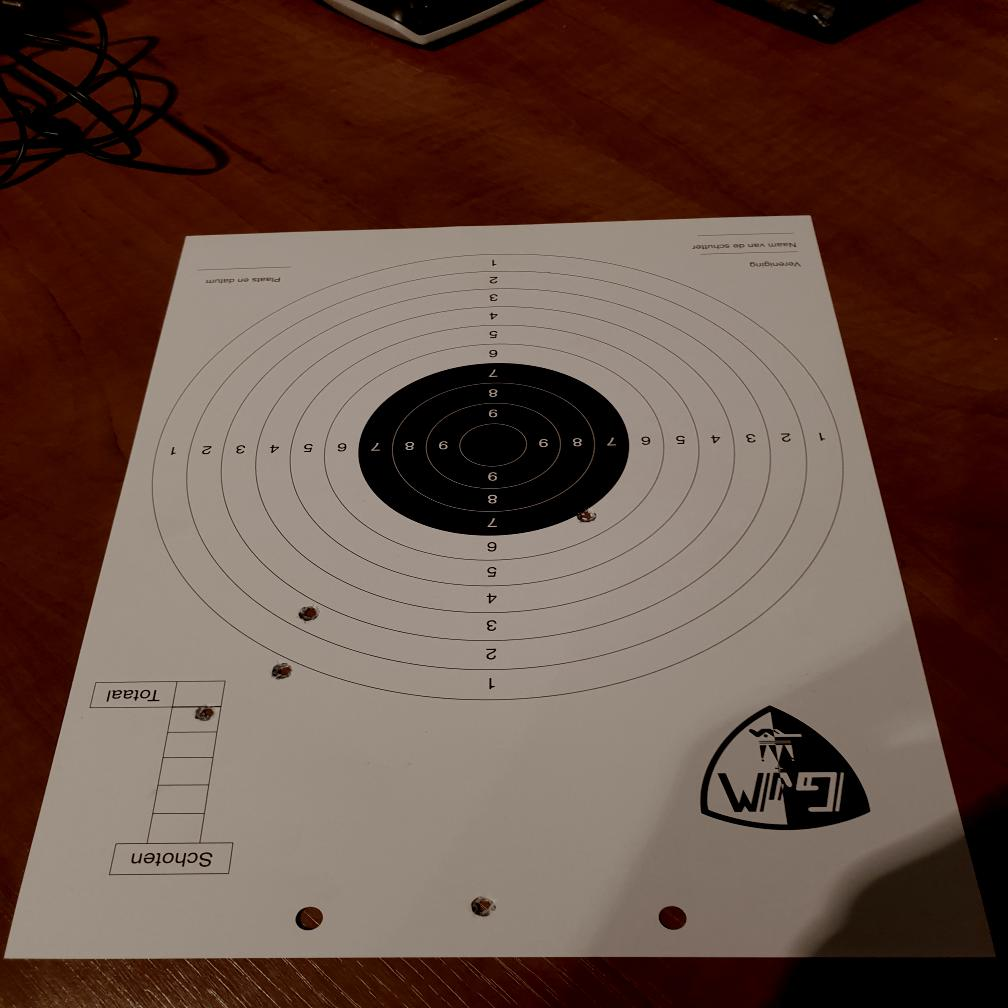0: (470, 896, 498, 918), (269, 660, 294, 681), (191, 703, 217, 723)
2: (297, 602, 322, 625)
7: (574, 507, 599, 525)
Target: (149, 249, 848, 705)
black_contour: (359, 362, 630, 536)
